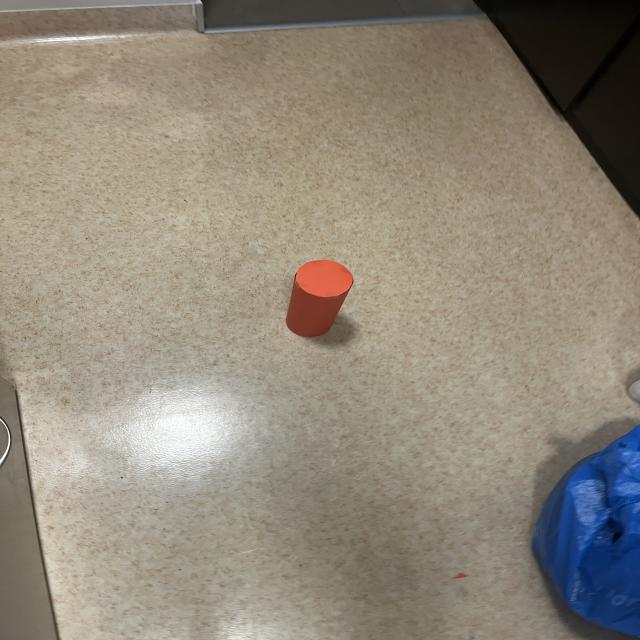przeszkoda: (286, 260, 353, 337)
